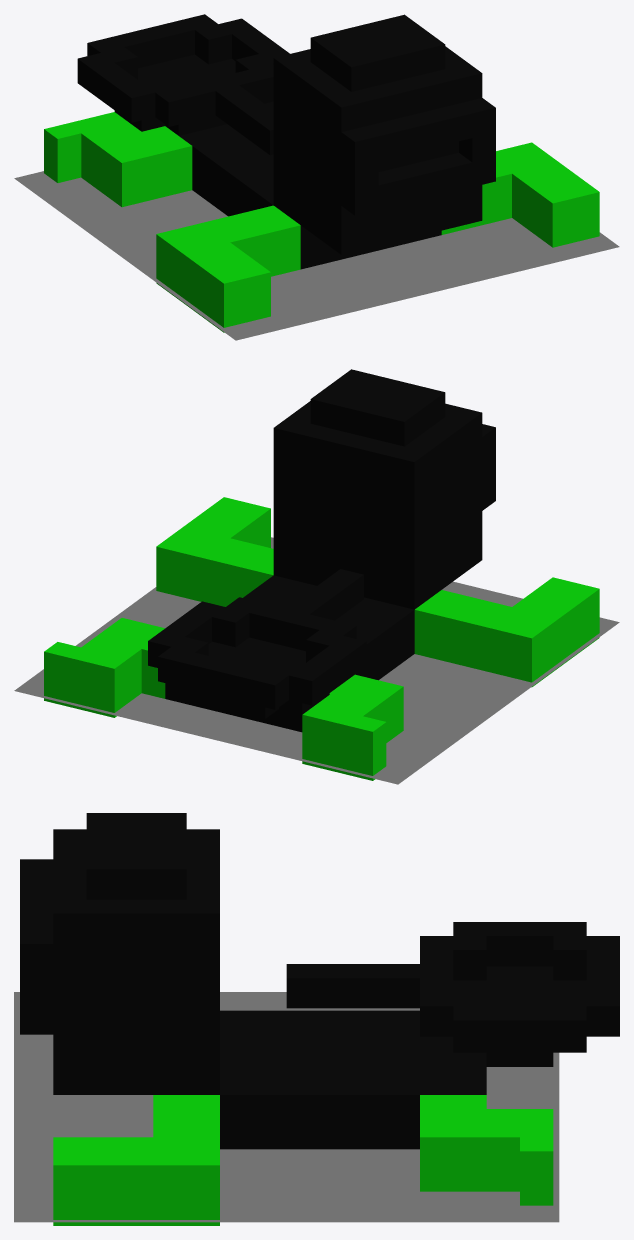
Rendered from snake_unknown_body_v2.FBX.
3 renders of one model, top to bottom at view 1: azimuth 30°, elevation 25°; view 2: azimuth 150°, elevation 25°; view 3: azimuth 270°, elevation 25°, orthographic. The views are drawn at different scales.
Visible parts, largest first — view 1: snake_unknown_body_v2, snake_unknown_soft_shadow; view 2: snake_unknown_body_v2, snake_unknown_soft_shadow; view 3: snake_unknown_body_v2, snake_unknown_soft_shadow.
Boxes of the visible parts, <box> form: snake_unknown_body_v2: <box>44,14,599,332</box>; snake_unknown_soft_shadow: <box>14,171,619,340</box>; snake_unknown_body_v2: <box>44,369,599,780</box>; snake_unknown_soft_shadow: <box>14,537,619,784</box>; snake_unknown_body_v2: <box>20,813,619,1225</box>; snake_unknown_soft_shadow: <box>14,992,559,1222</box>.
Size of the model in its own units: 81.79 by 45 by 90.9.
